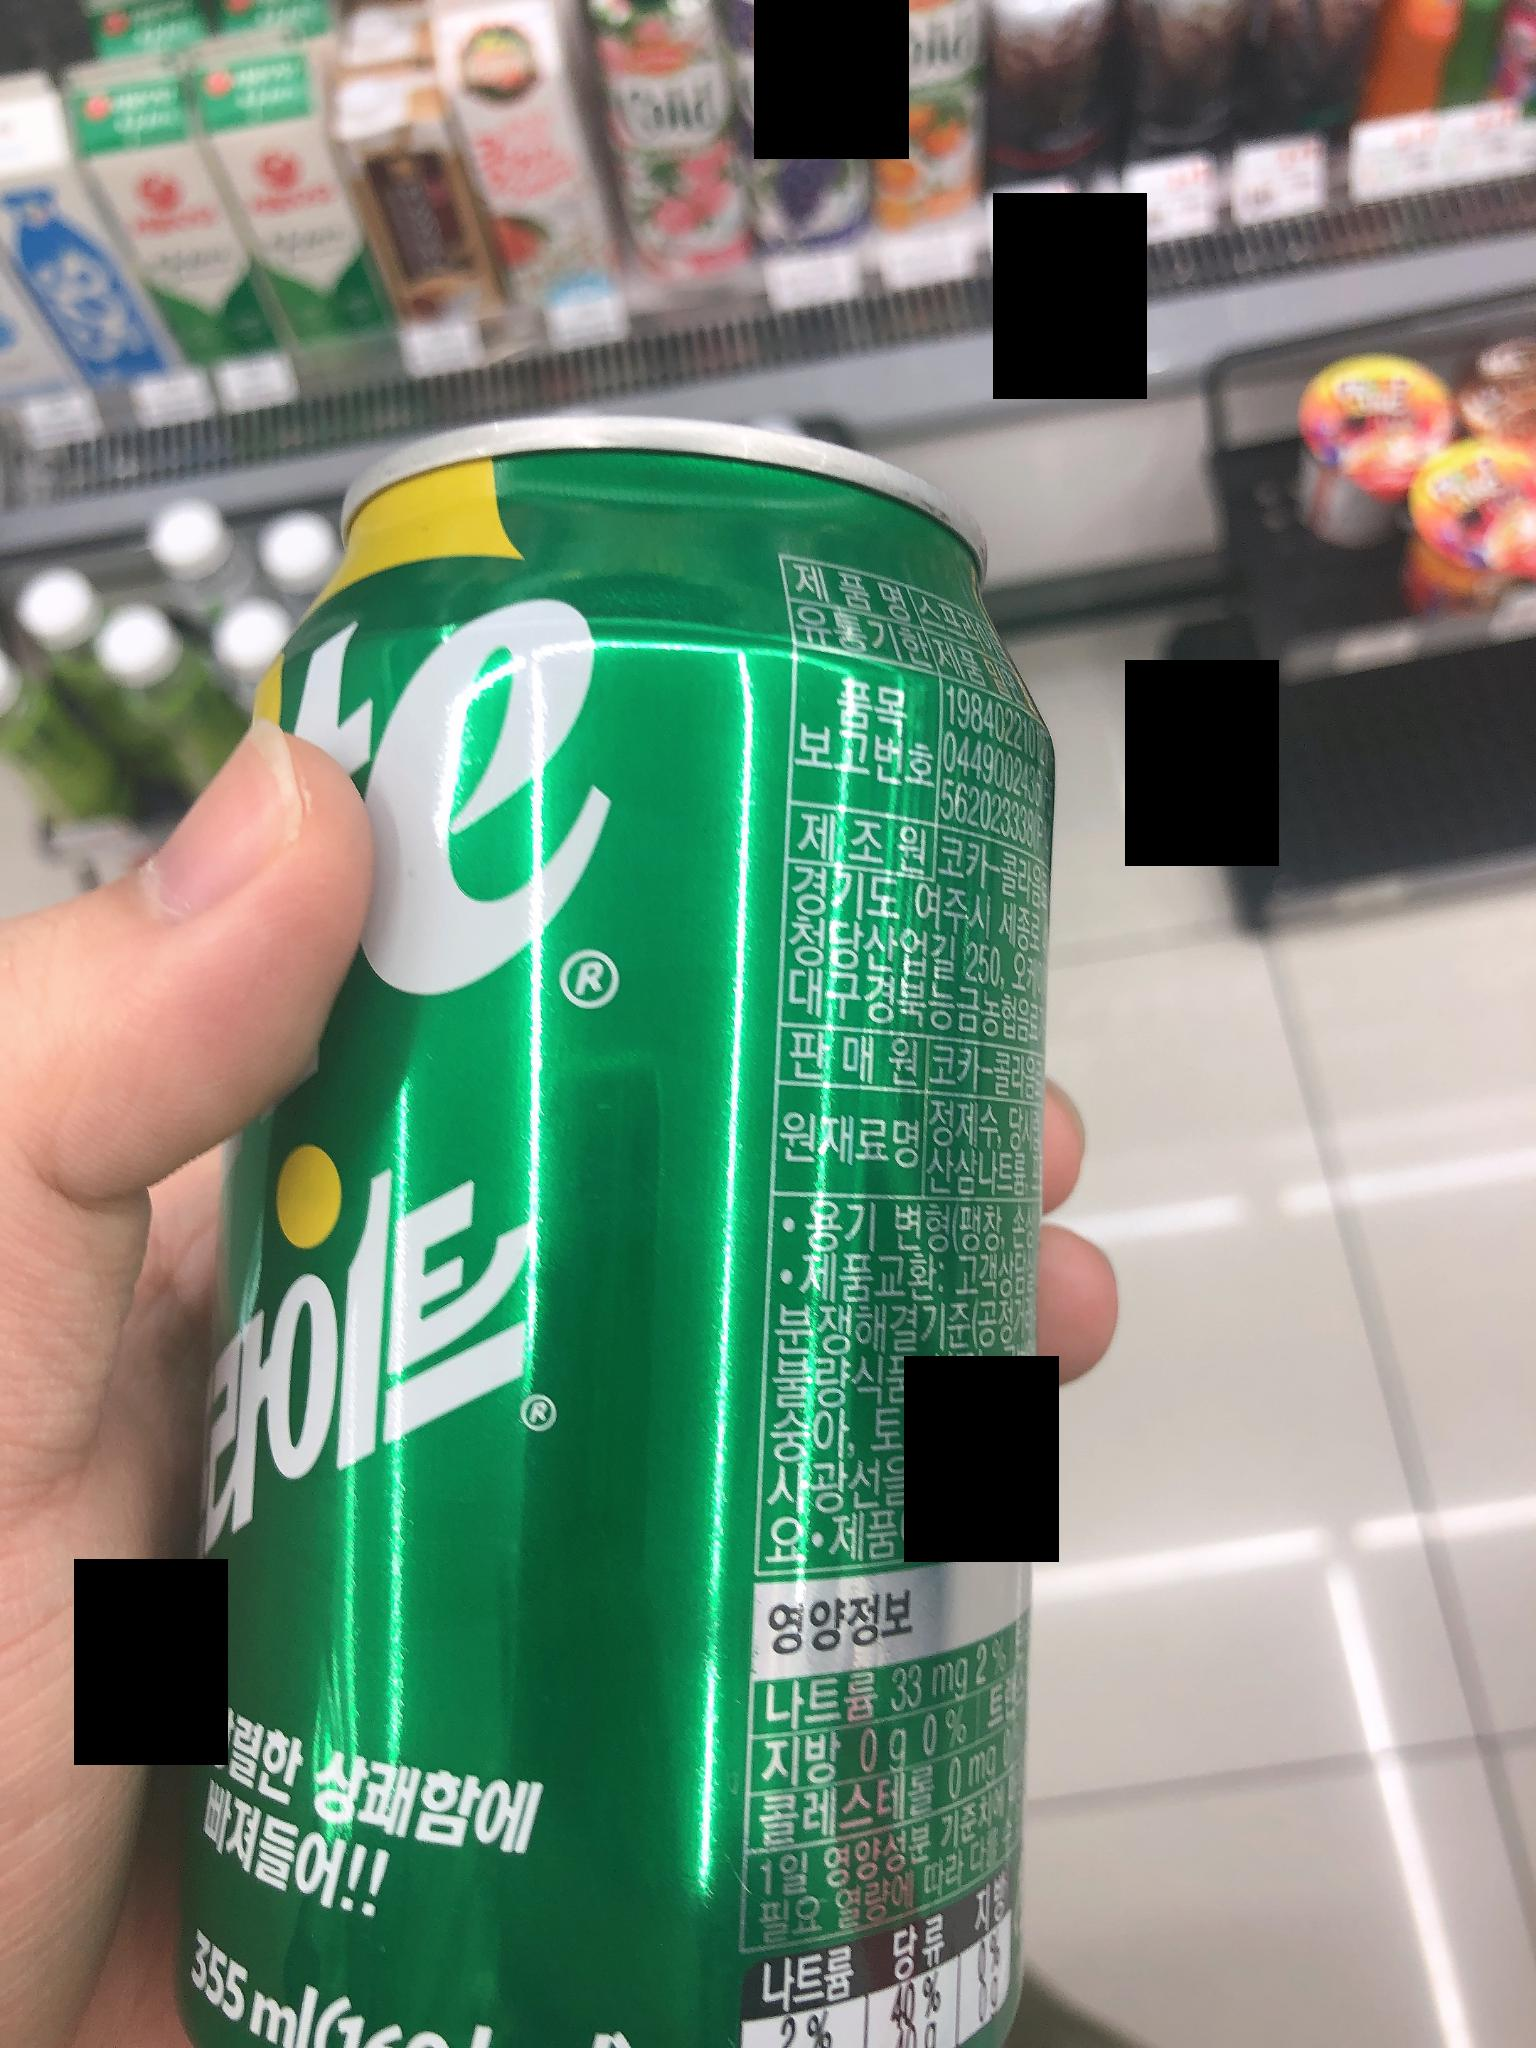sprite: (116, 376, 1094, 2048)
